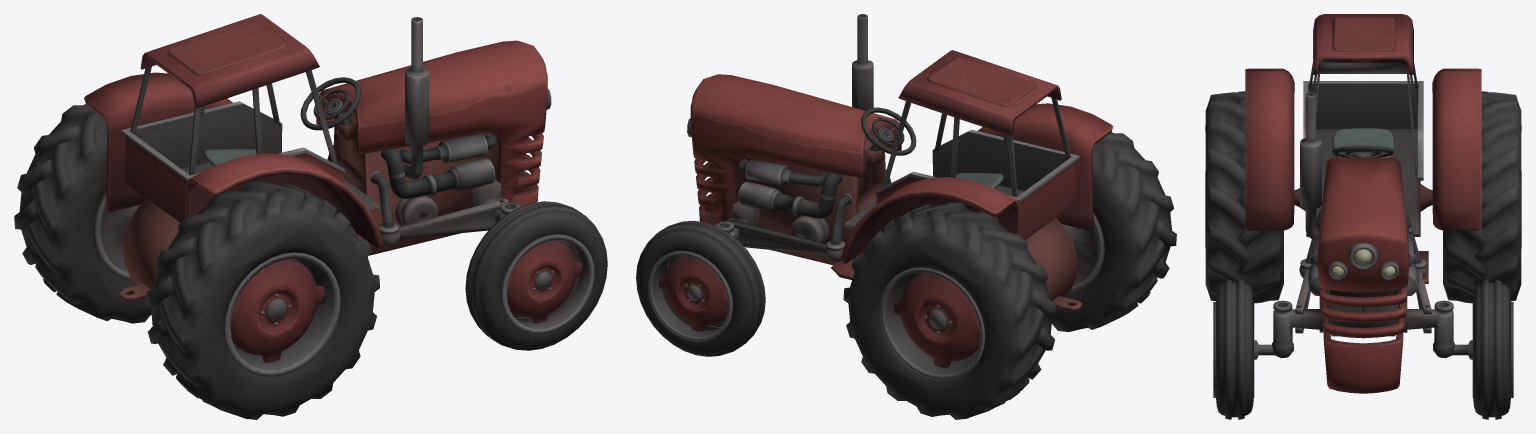
Rendered from tractor-278fc1.glb.
3 views of the same model, side by side, from view 1: azimuth 30°, elevation 25°; view 2: azimuth 150°, elevation 25°; view 3: azimuth 270°, elevation 25° (orthographic). The views are drawn at different scales.
Parts seen in each view (by area): view 1: PropMesh; view 2: PropMesh; view 3: PropMesh.
Boxes of the visible parts, x1,y1,x2,y2 form: PropMesh: (14, 14, 607, 419); PropMesh: (636, 14, 1176, 419); PropMesh: (1205, 14, 1521, 419).
Bounding box in the file's own units: 2.6 × 1.76 × 1.77.
Materials: 9 (9 with a texture image).
